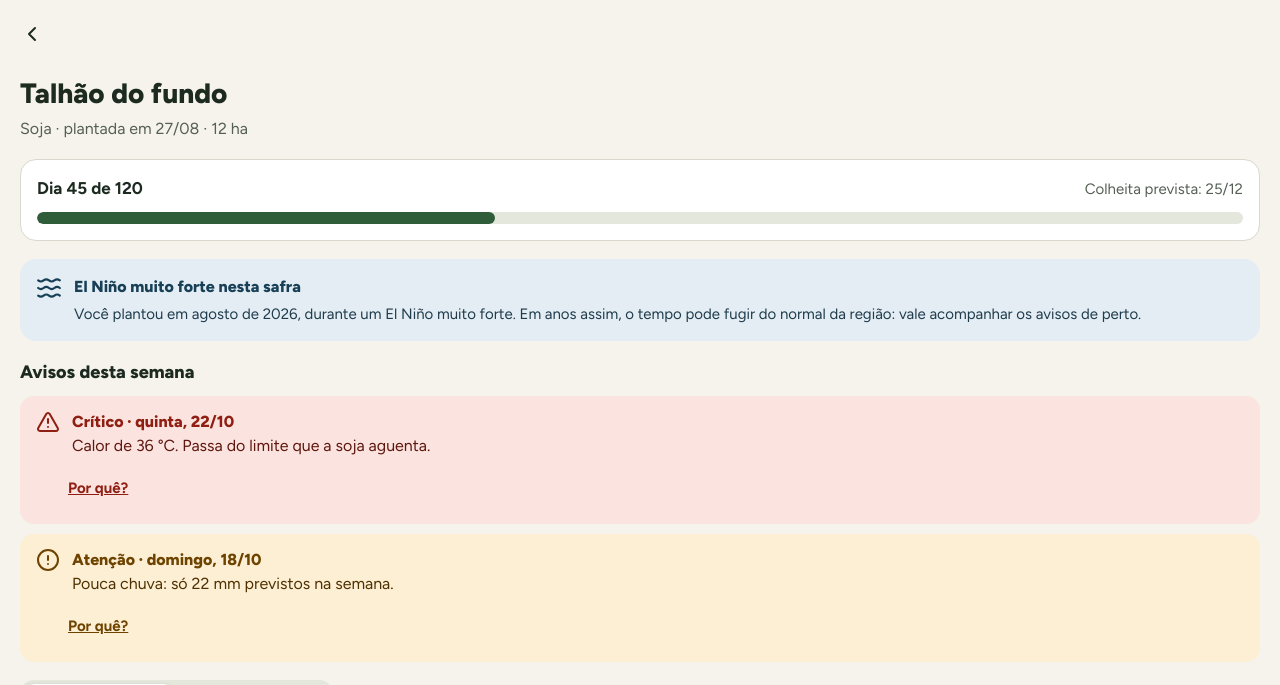
Test: Detalhe da lavoura › cada aviso da semana abre o "por quê"
Expected: the heading "Talhão do fundo" is shown, [20,76,227,110]
Click the button "Por quê?" below "Crítico".
click(98, 488)  # box [68,466,128,510]
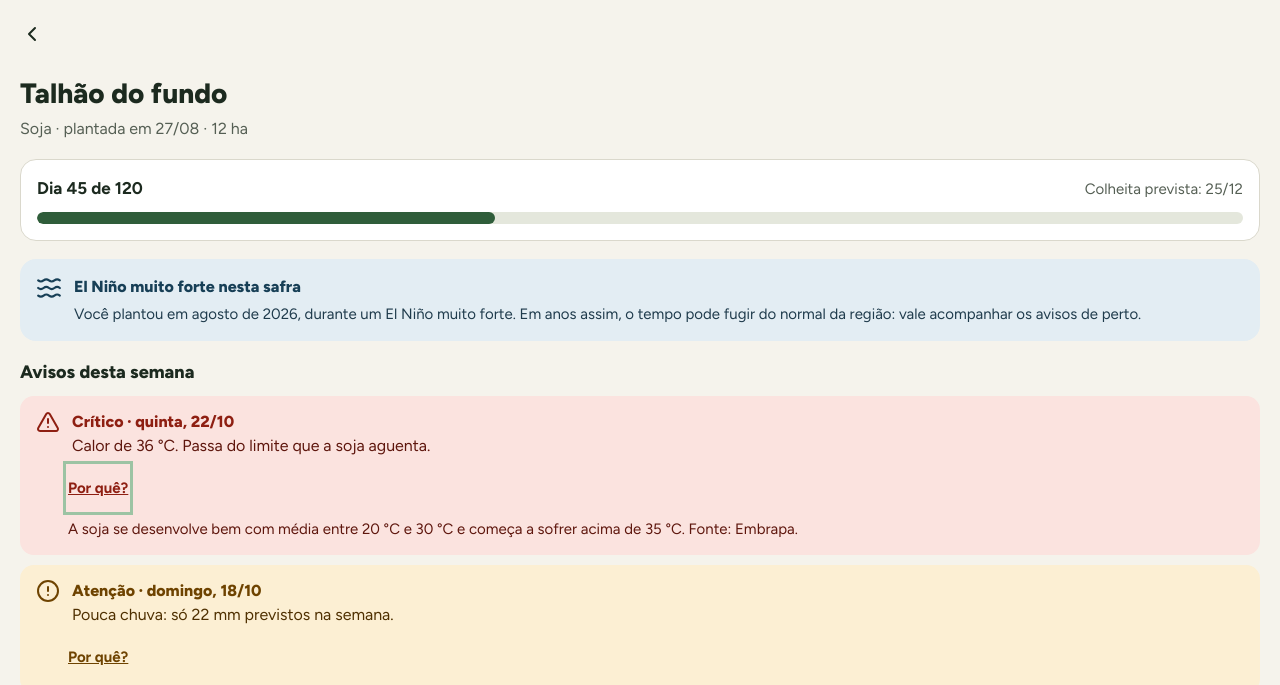
Expected: the text "A soja se desenvolve bem com média entre 20 °C e 30 °C" is shown, [68,520,798,538]
